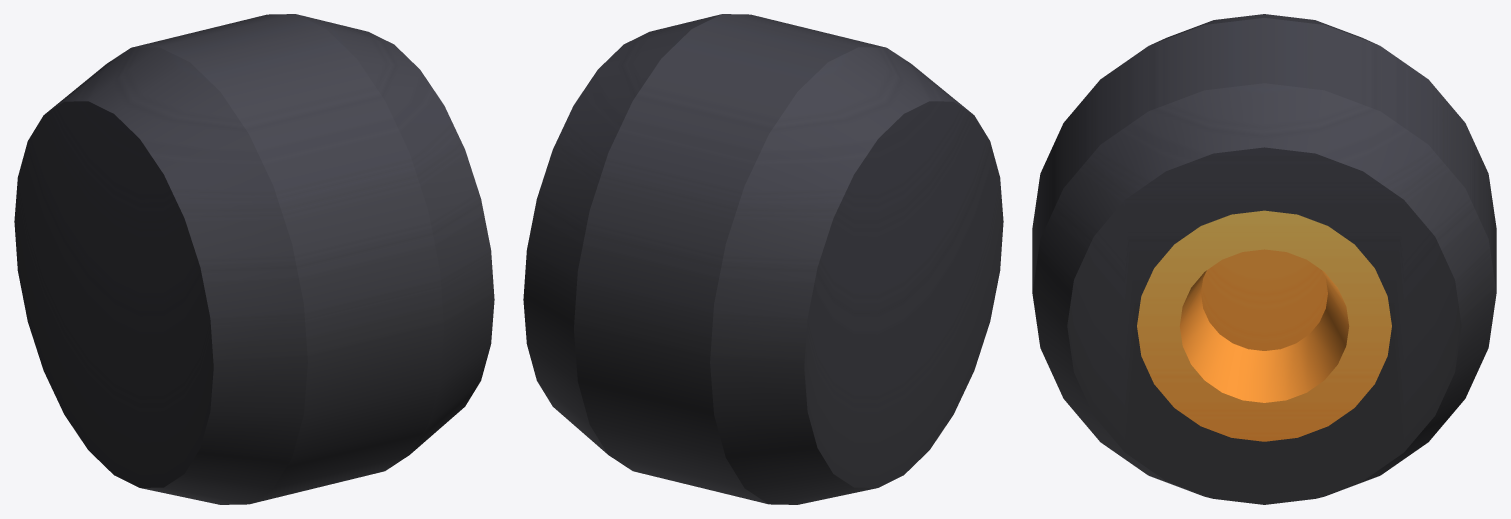
3 renders of one model, left to right at view 1: azimuth 30°, elevation 25°; view 2: azimuth 150°, elevation 25°; view 3: azimuth 270°, elevation 25°, orthographic.
Parts seen in each view (by area): view 1: wheel-tractor-front; view 2: wheel-tractor-front; view 3: wheel-tractor-front.
Part boxes in pixels (box(x1,y1,x2,y2)): wheel-tractor-front: box(14, 14, 494, 504); wheel-tractor-front: box(523, 14, 1003, 504); wheel-tractor-front: box(1032, 14, 1496, 504).
Size of the model in its own units: 0.3693 by 0.5386 by 0.5386.
1 material, 1 textured.
